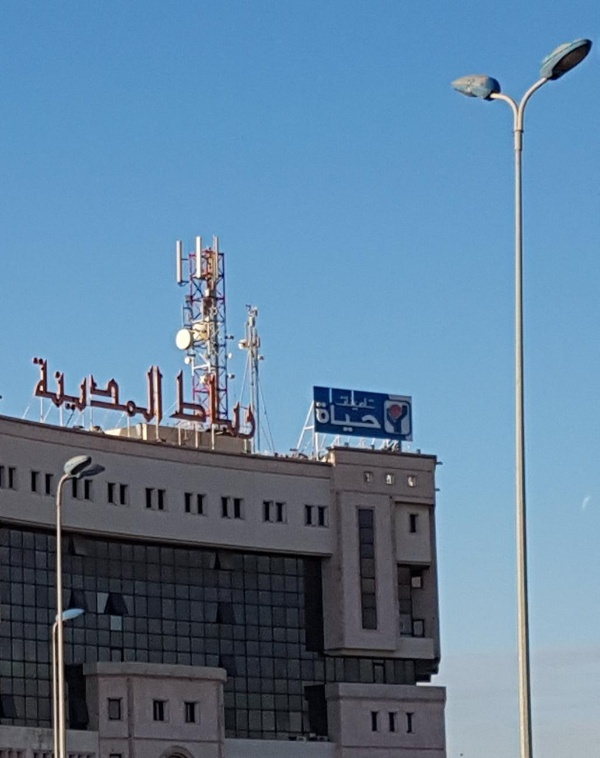text: (177, 367, 192, 445), (193, 367, 208, 445), (209, 367, 224, 445), (225, 367, 240, 445), (241, 367, 256, 445), (33, 353, 48, 429), (49, 353, 64, 429), (65, 353, 80, 429), (81, 353, 96, 429), (97, 353, 112, 429), (113, 353, 128, 429), (129, 353, 144, 429), (145, 353, 160, 429), (321, 400, 336, 435), (337, 400, 352, 435), (353, 400, 368, 435), (369, 400, 384, 435), (337, 386, 352, 415), (353, 386, 368, 415), (257, 367, 262, 445), (161, 353, 166, 429), (328, 386, 336, 415), (369, 386, 377, 415), (315, 400, 320, 435), (175, 367, 176, 445), (31, 353, 32, 429)
